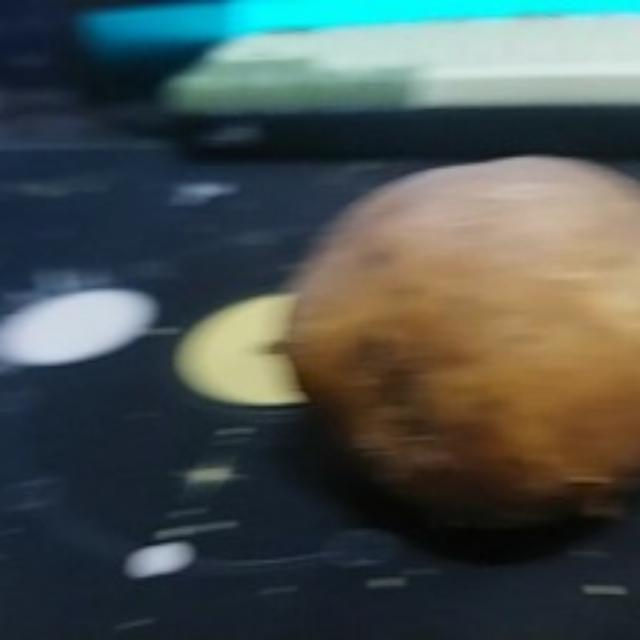Damaged potato: (284, 156, 640, 552)
